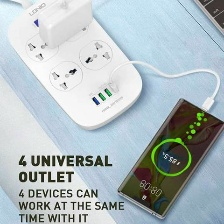phone: (115, 96, 224, 221)
three_eye_plug: (5, 0, 144, 135)
